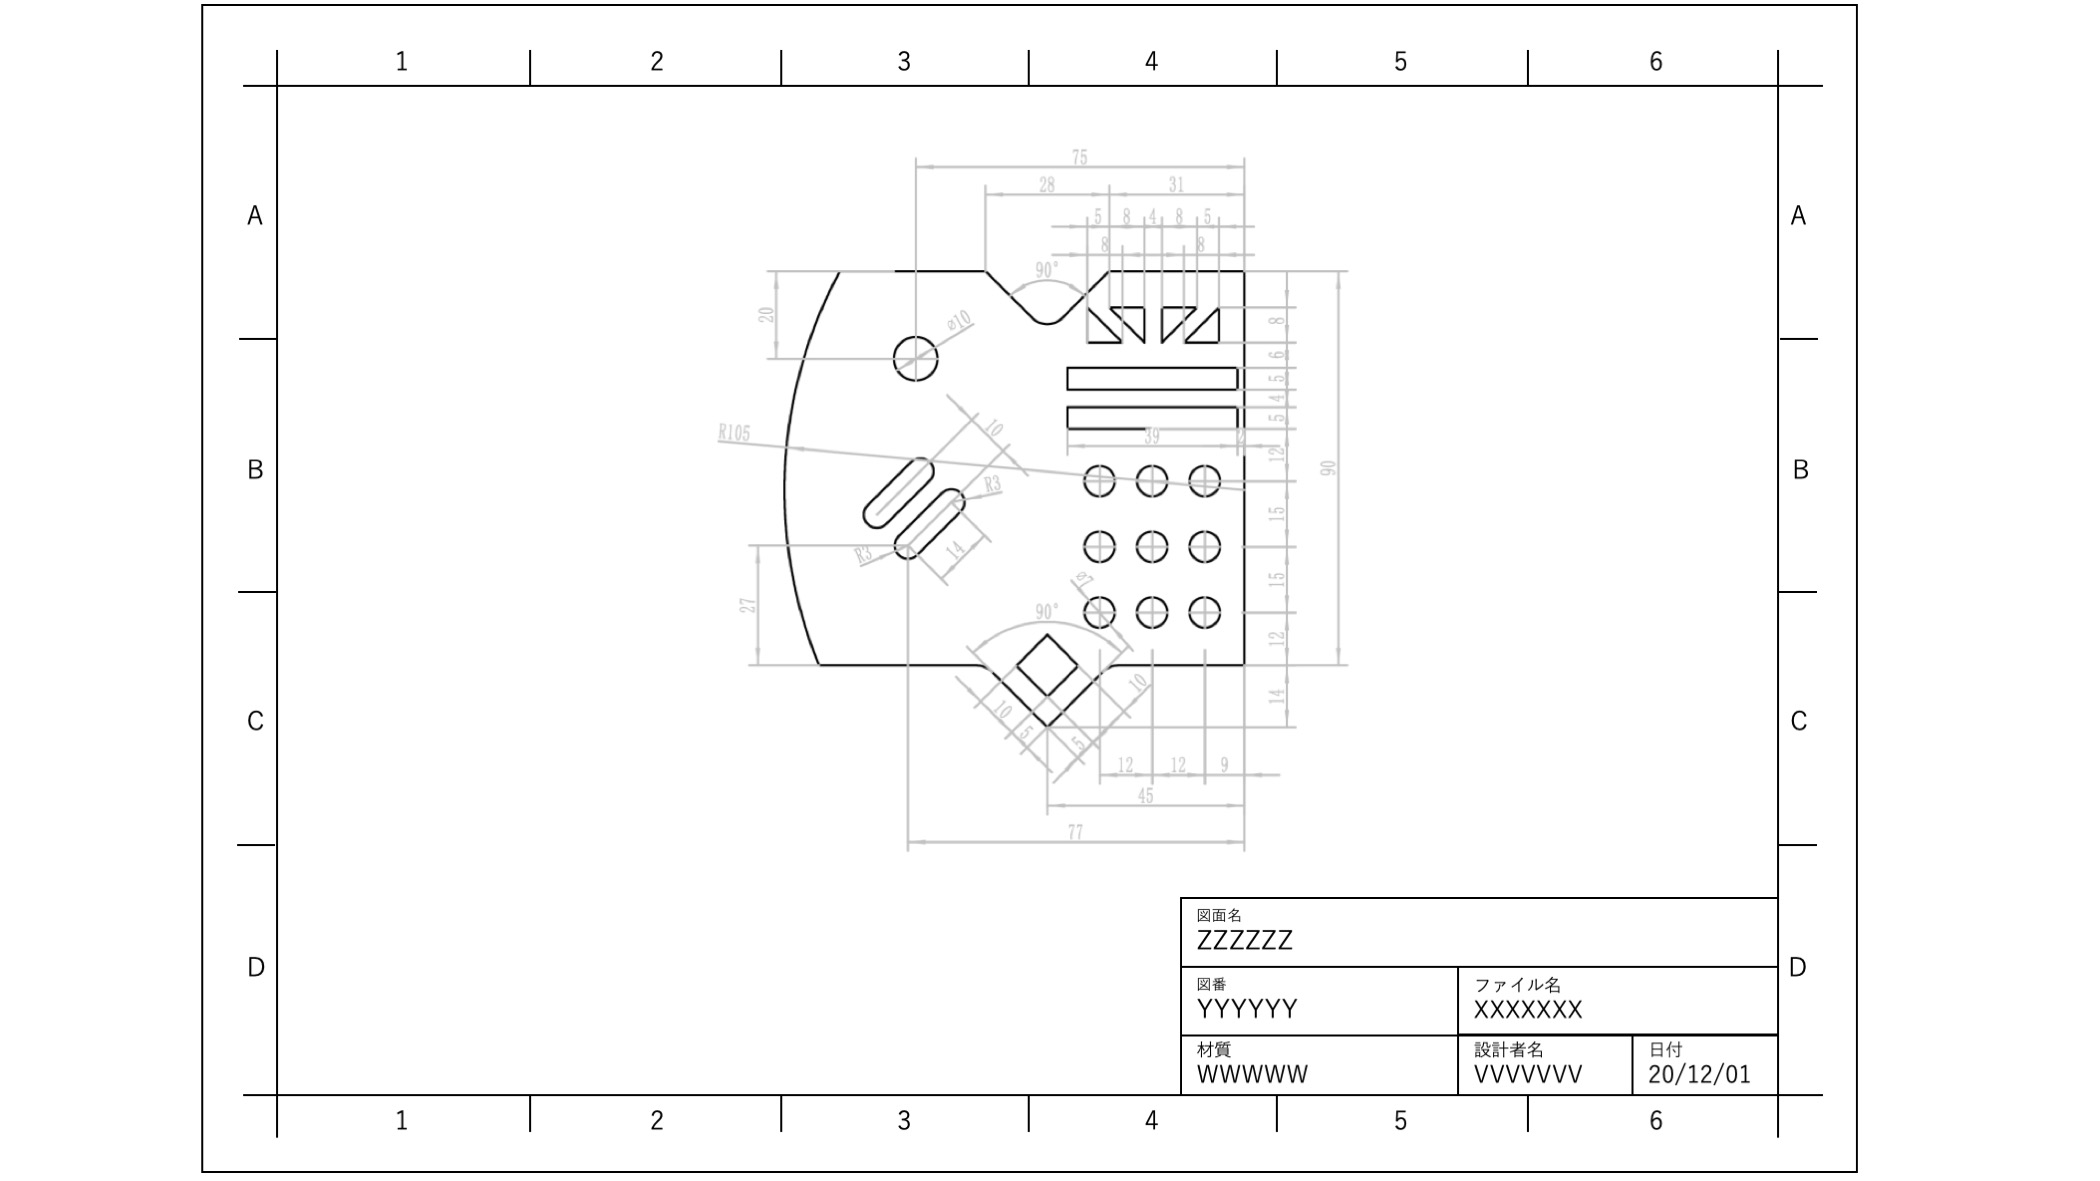circle: (891, 327, 942, 386), (1129, 518, 1173, 568), (1186, 519, 1226, 572), (1075, 590, 1122, 634), (1131, 588, 1173, 634), (1184, 590, 1230, 632), (1080, 519, 1121, 567), (1132, 457, 1171, 502), (1079, 457, 1118, 500), (1187, 456, 1225, 500)
rectangle: (1062, 397, 1248, 438), (1060, 361, 1245, 398), (1011, 627, 1080, 696)
round_rectangle: (894, 483, 974, 567), (855, 446, 933, 531)
triangle: (1082, 296, 1124, 350), (1152, 291, 1191, 346), (1109, 291, 1147, 345), (1186, 301, 1225, 348)
